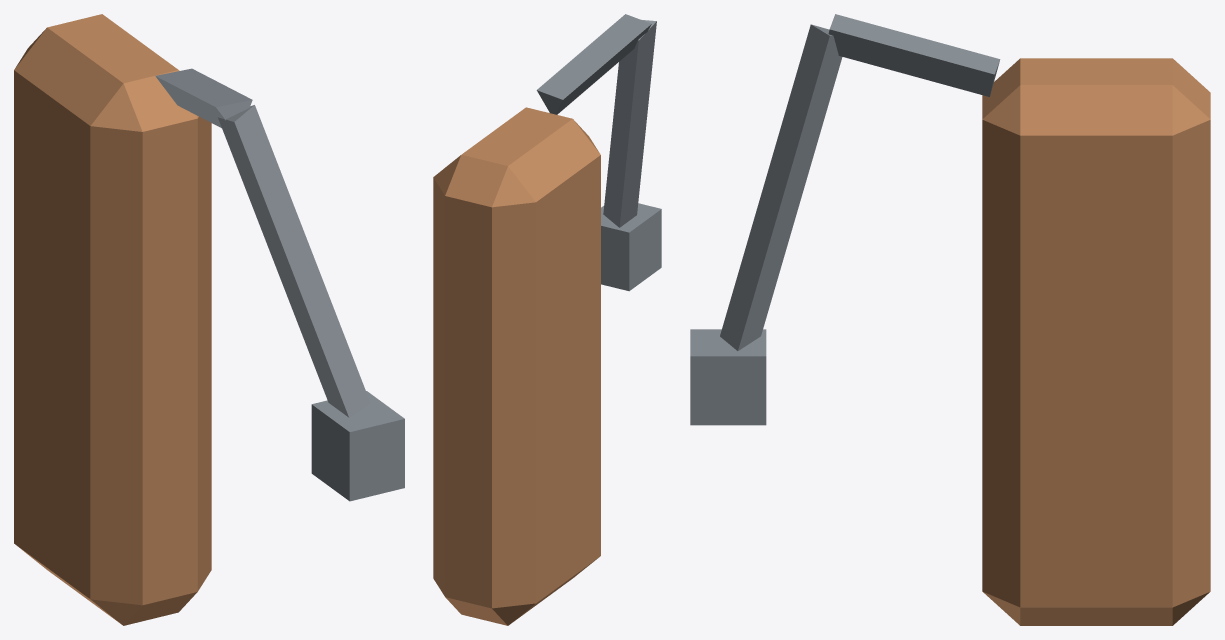
The model's file is hearing-aid.glb.
3 views of the same model, side by side, from view 1: azimuth 30°, elevation 25°; view 2: azimuth 150°, elevation 25°; view 3: azimuth 270°, elevation 25° (orthographic). The views are drawn at different scales.
Parts seen in each view (by area): view 1: hearing-aid-0, hearing-aid-1; view 2: hearing-aid-0, hearing-aid-1; view 3: hearing-aid-0, hearing-aid-1.
Part boxes in pixels (box(x1,y1,x2,y2)): hearing-aid-0: box(14, 14, 211, 625); hearing-aid-1: box(155, 68, 404, 501); hearing-aid-0: box(433, 107, 600, 625); hearing-aid-1: box(536, 14, 661, 291); hearing-aid-0: box(982, 58, 1210, 625); hearing-aid-1: box(690, 14, 1000, 425).
Bounding box in the file's own units: 0.0135 × 0.0509 × 0.041.
